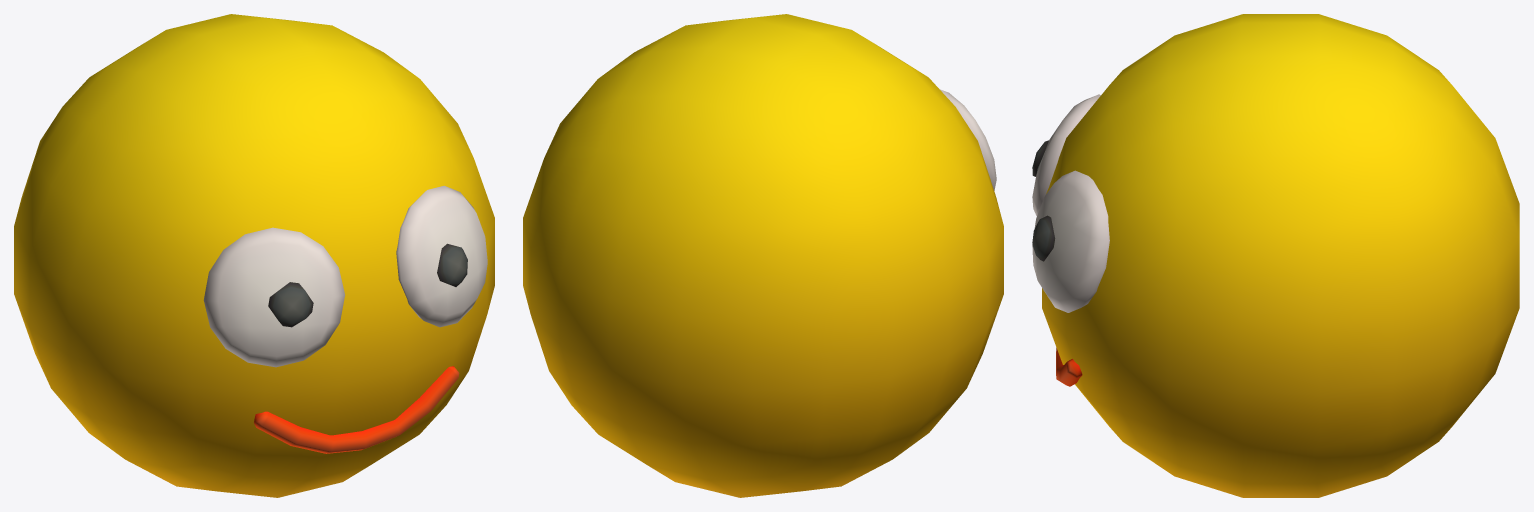
Rendered from smiley.glb.
3 views of the same model, side by side, from view 1: azimuth 30°, elevation 25°; view 2: azimuth 150°, elevation 25°; view 3: azimuth 270°, elevation 25° (orthographic).
Size of the model in its own units: 0.4424 by 0.4424 by 0.4514.
1 material, 1 textured.
